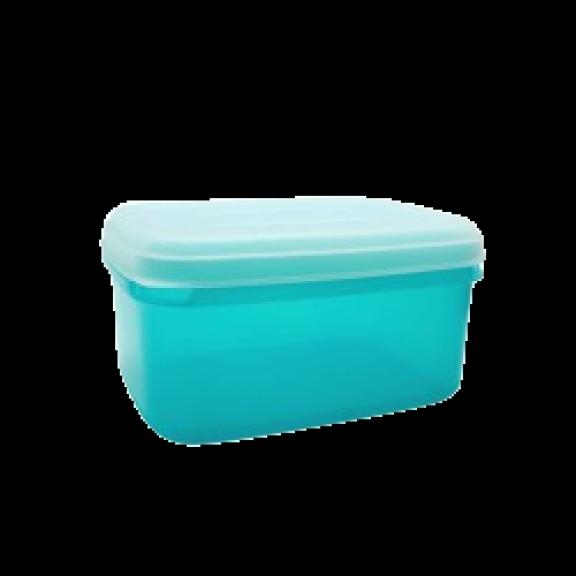Plastik: (97, 190, 489, 456)
